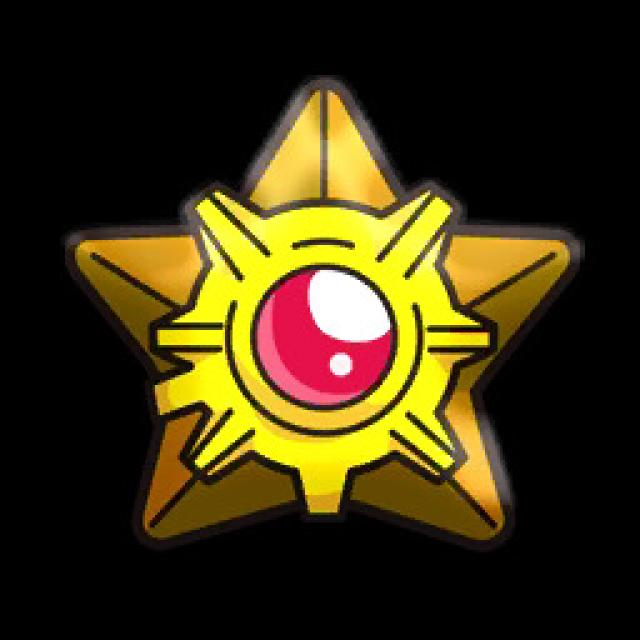Staryu: (72, 67, 580, 549)
